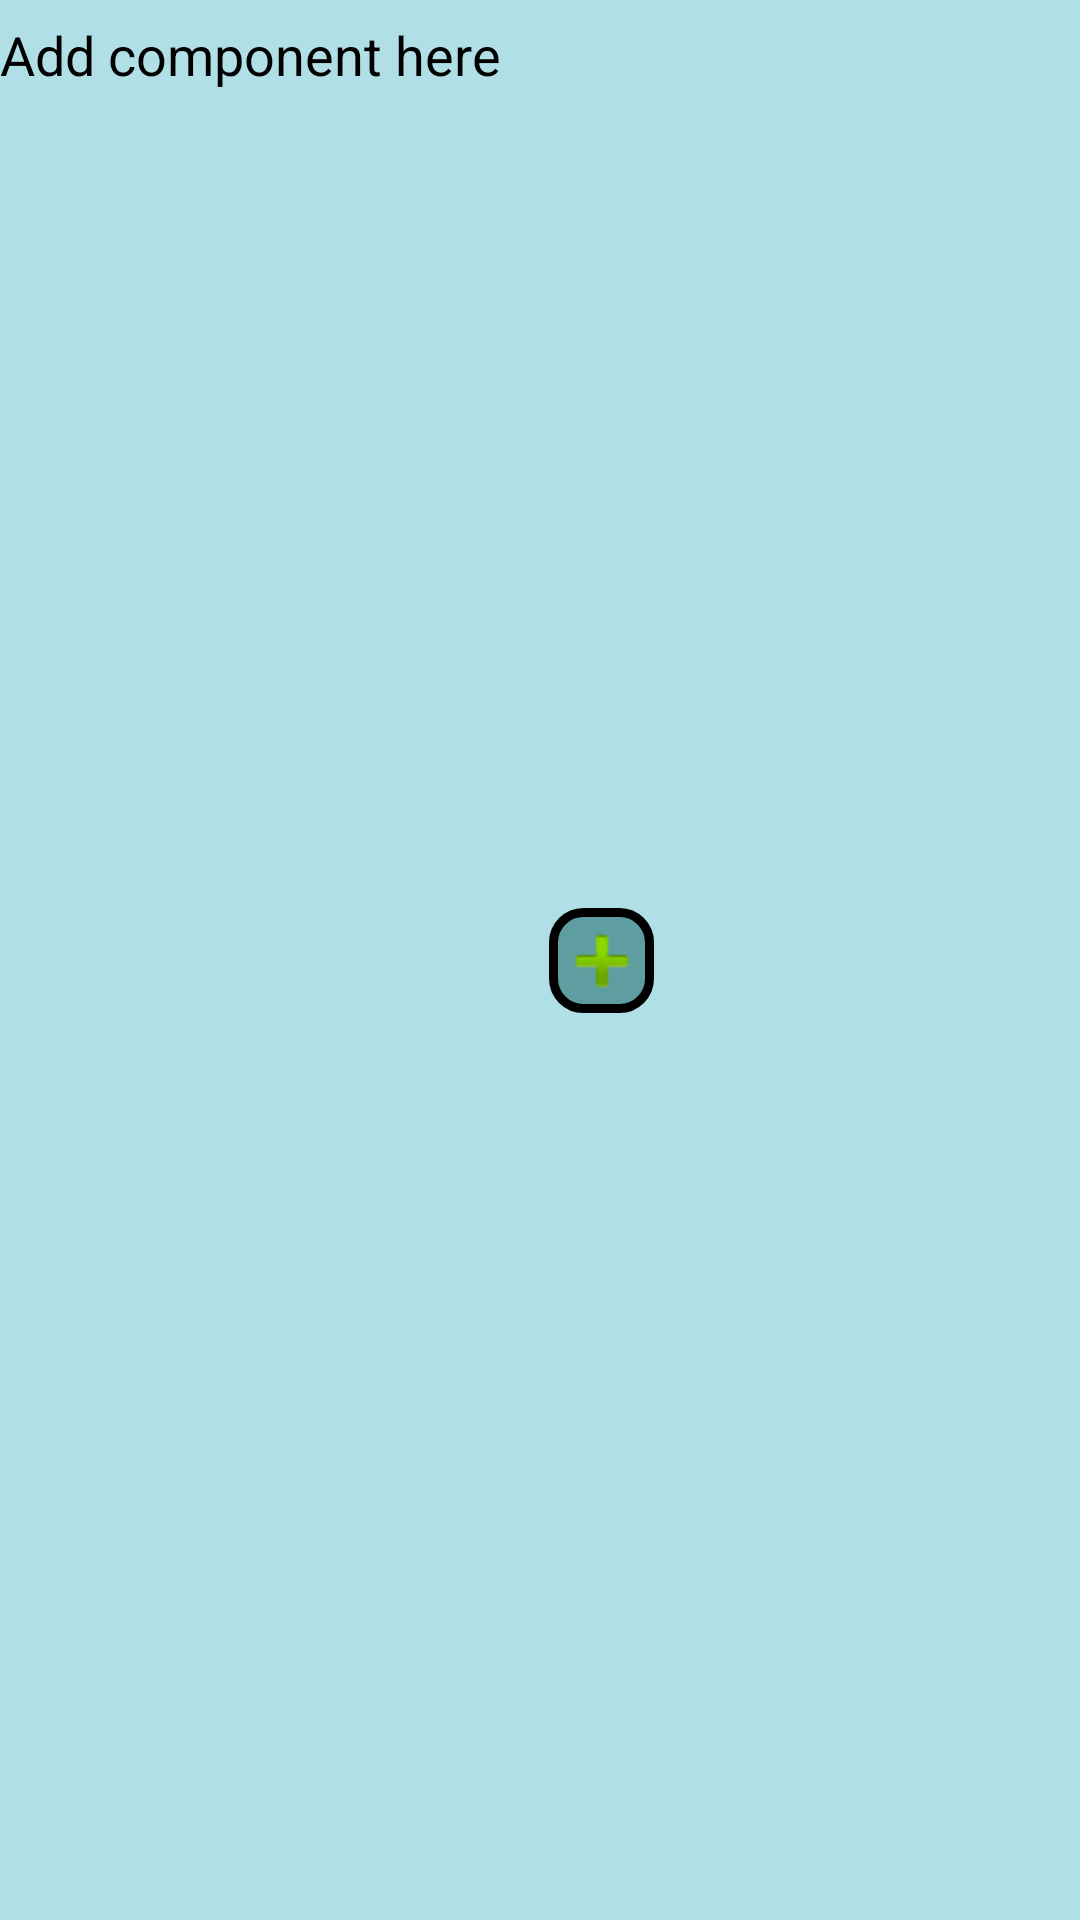

Icons on this 1080x1920 Android screen, each with the point to tap as [x,y]:
Add component here: [601,960]
